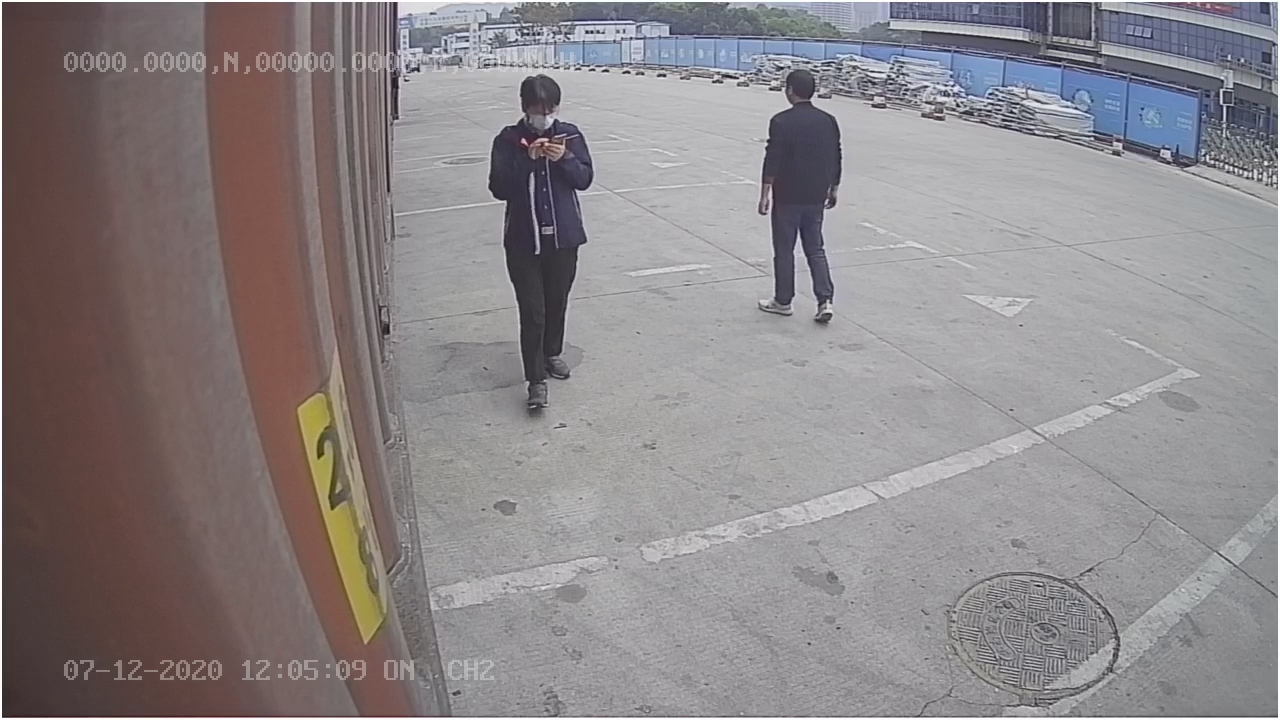person: (480, 71, 594, 412), (747, 66, 853, 324)
